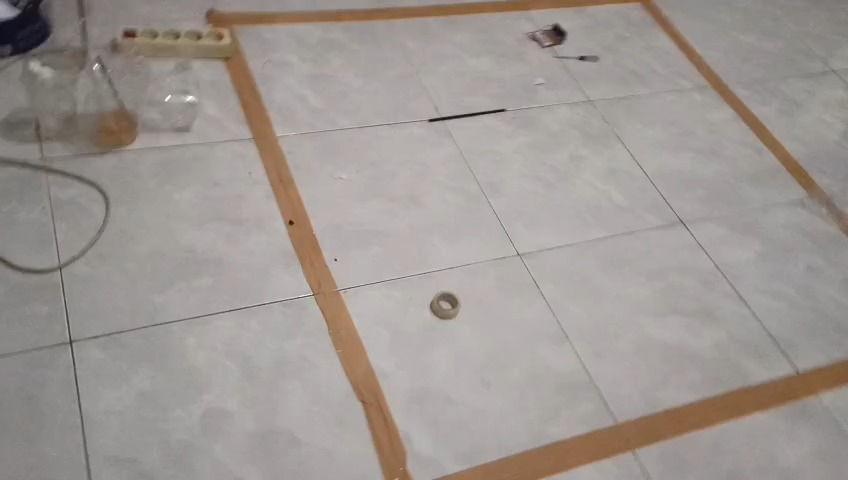floor marking: (207, 0, 847, 238), (225, 31, 411, 479), (444, 359, 847, 479)
